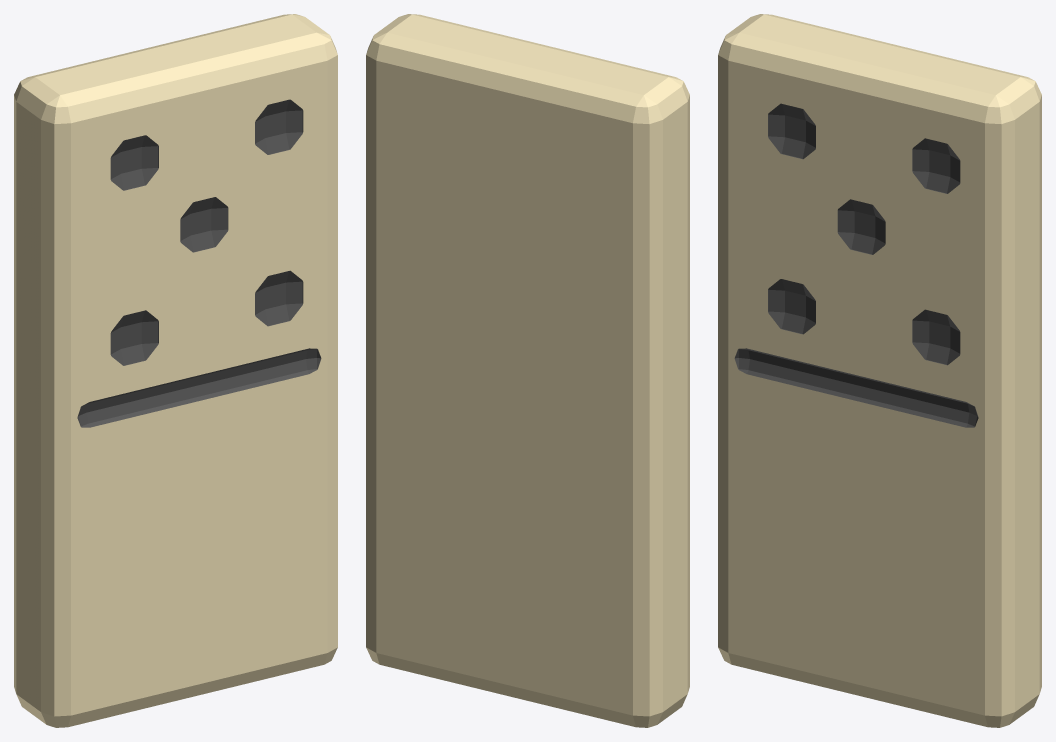
File: dominoes 5x0.fbx
3 renders of one model, left to right at view 1: azimuth 30°, elevation 25°; view 2: azimuth 150°, elevation 25°; view 3: azimuth 330°, elevation 25°, orthographic.
Parts seen in each view (by area): view 1: Boole_25; view 2: Boole_25; view 3: Boole_25.
Boxes of the visible parts, x1,y1,x2,y2 form: Boole_25: (14, 14, 337, 727); Boole_25: (366, 14, 689, 727); Boole_25: (718, 14, 1041, 727).
Bounding box in the file's own units: 200 × 410 × 55.02.
